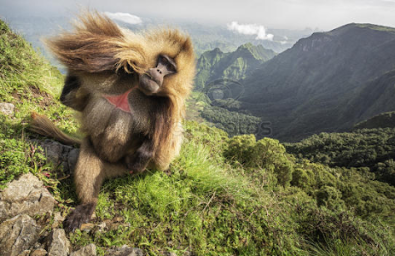Gelada: (53, 10, 193, 199)
